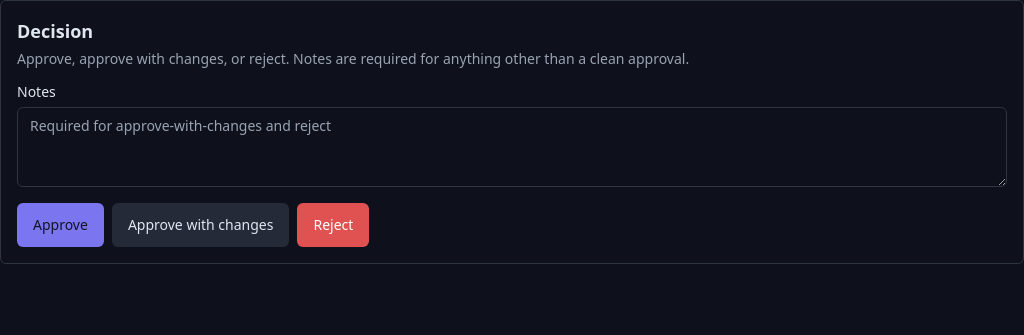
Test: VideoApprovalGate › displays the response error body on failure
Click the button "Approve".
click(60, 225)  # box [17, 203, 104, 247]
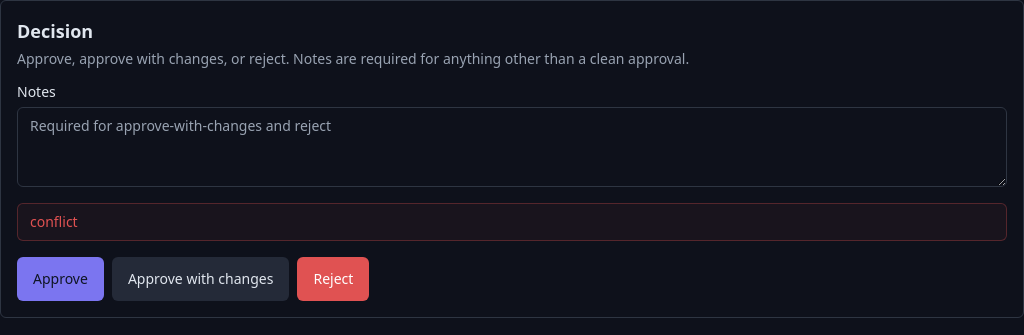
expect the text "conflict" is shown: met, box [17, 203, 1007, 241]
